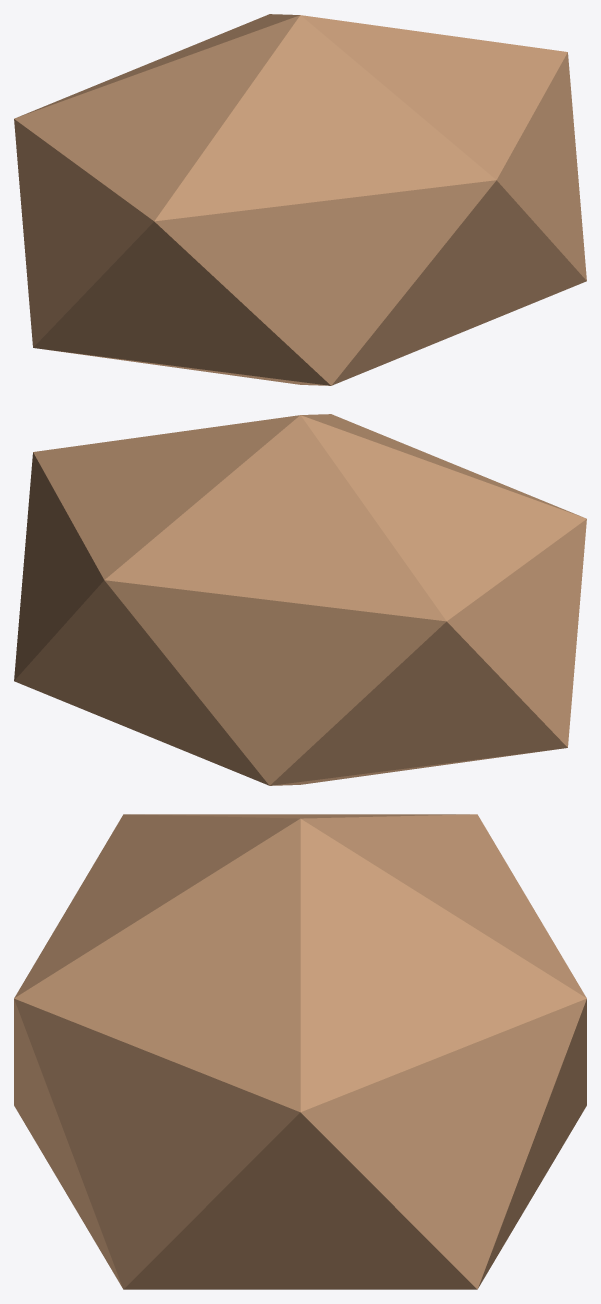
File: SM_Rock_Boulder_A.fbx
3 renders of one model, top to bottom at view 1: azimuth 30°, elevation 25°; view 2: azimuth 150°, elevation 25°; view 3: azimuth 270°, elevation 25°, orthographic. The views are drawn at different scales.
Visible parts, largest first — view 1: SM_Rock_Boulder_A; view 2: SM_Rock_Boulder_A; view 3: SM_Rock_Boulder_A.
Part boxes in pixels (box(x1,y1,x2,y2)): SM_Rock_Boulder_A: box(14, 14, 586, 385); SM_Rock_Boulder_A: box(14, 414, 586, 785); SM_Rock_Boulder_A: box(14, 814, 586, 1289).
Bounding box in the file's own units: 1.08 × 0.715 × 0.7953.
